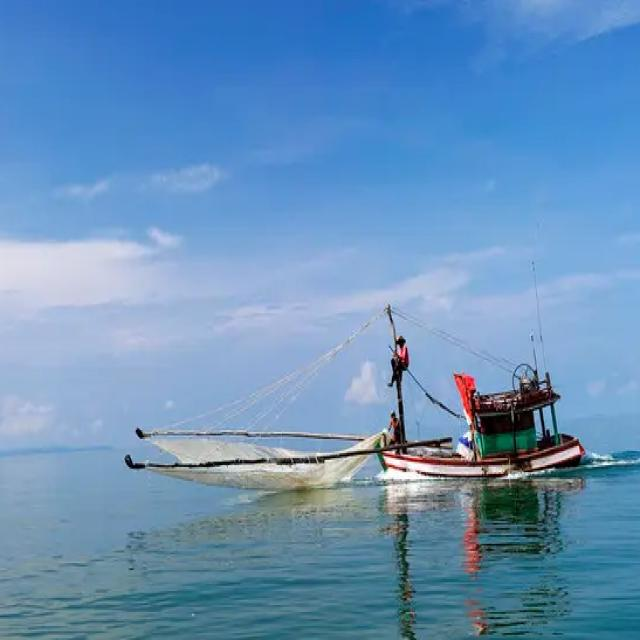fishing boat: (143, 309, 590, 489)
